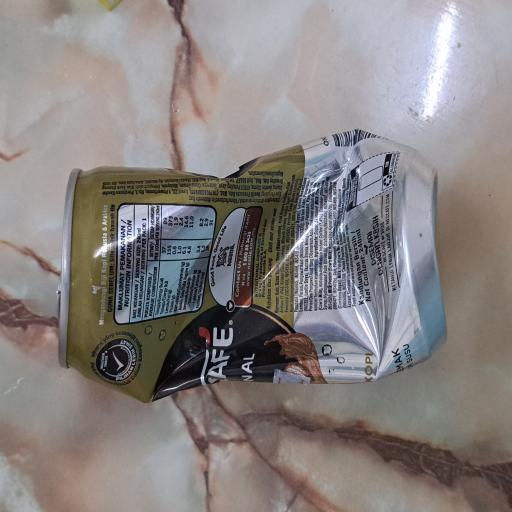can: (80, 75, 289, 512)
